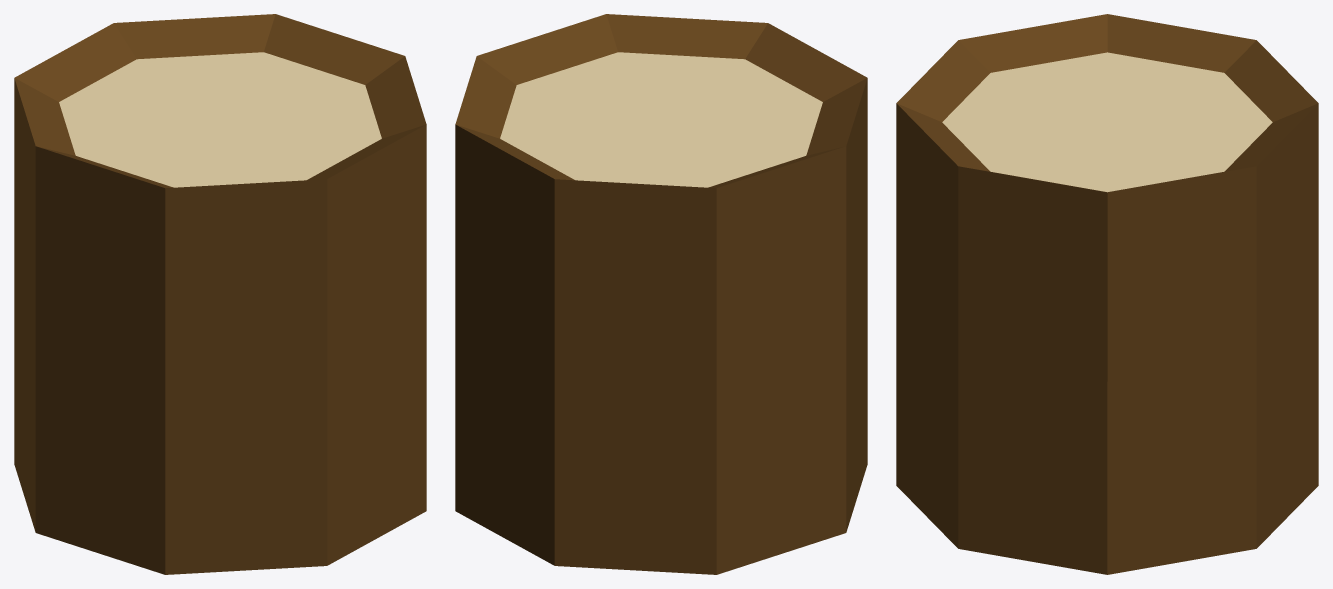
Rendered from Log.fbx.
The picture shows the model from 3 angles, left to right: view 1: azimuth 30°, elevation 25°; view 2: azimuth 150°, elevation 25°; view 3: azimuth 270°, elevation 25°; orthographic projection.
Visible parts, largest first — view 1: Log; view 2: Log; view 3: Log.
Boxes of the visible parts, left/top/right/bottom form: Log: left=14, top=14, right=426, bottom=574; Log: left=455, top=14, right=867, bottom=574; Log: left=896, top=14, right=1318, bottom=574.
Bounding box in the file's own units: 200 × 200 × 200.
